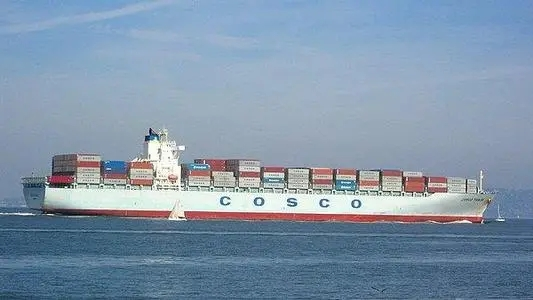Cargoship: (9, 126, 497, 218)
fanchuan: (162, 198, 192, 226)
